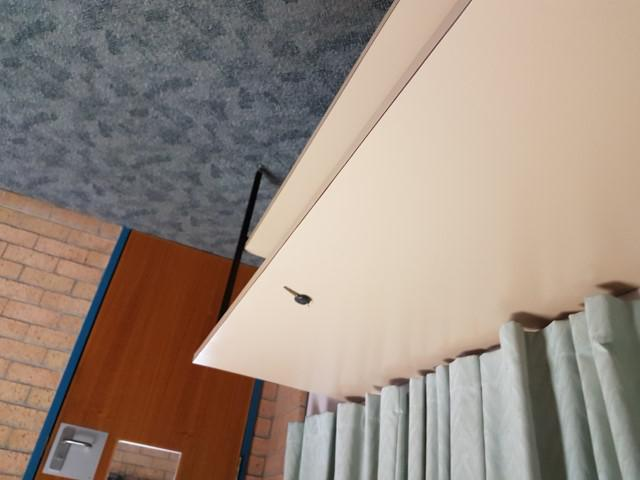key: (283, 285, 312, 305)
